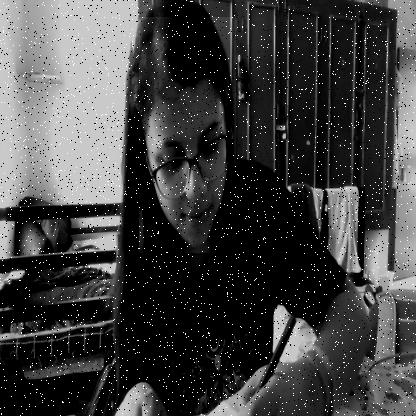Distracted: (139, 17, 236, 253)
